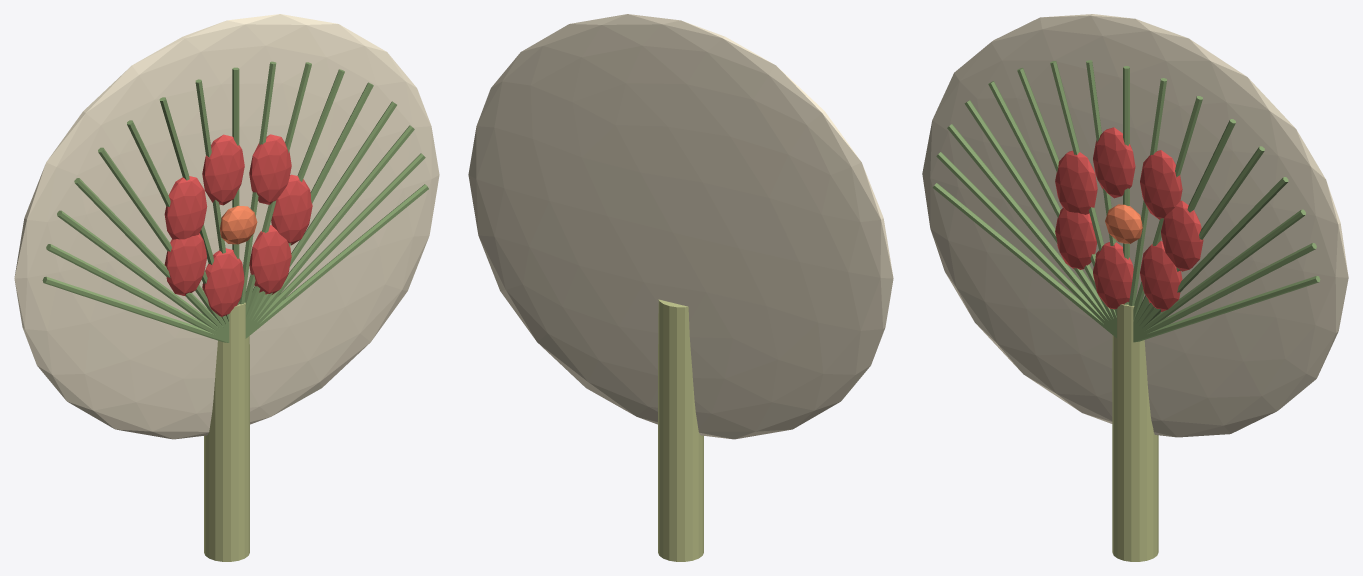
Rendered from wear_uchiwa.glb.
3 renders of one model, left to right at view 1: azimuth 30°, elevation 25°; view 2: azimuth 150°, elevation 25°; view 3: azimuth 330°, elevation 25°, orthographic.
Parts seen in each view (by area): view 1: Uchiwa stiff paper leaf, Bamboo uchiwa handle, Uchiwa print blossom_petal02, Uchiwa print blossom_petal01, Uchiwa print blossom_petal06, Uchiwa print blossom_petal03, Uchiwa print blossom_petal05, Uchiwa print blossom_petal04, Uchiwa print blossom_petal00, Spreading bamboo veins.002, Spreading bamboo veins.001, Spreading bamboo veins.014 (+15 smaller); view 2: Uchiwa stiff paper leaf, Bamboo uchiwa handle; view 3: Uchiwa stiff paper leaf, Bamboo uchiwa handle, Uchiwa print blossom_petal02, Uchiwa print blossom_petal01, Uchiwa print blossom_petal00, Uchiwa print blossom_petal03, Uchiwa print blossom_petal05, Uchiwa print blossom_petal06, Uchiwa print blossom_petal04, Spreading bamboo veins.014, Spreading bamboo veins.015, Spreading bamboo veins.013 (+15 smaller).
Boxes of the visible parts, x1,y1,x2,y2 form: Uchiwa stiff paper leaf: (14,14,439,439); Bamboo uchiwa handle: (204,302,249,561); Uchiwa print blossom_petal02: (202,134,244,205); Uchiwa print blossom_petal01: (249,134,291,204); Uchiwa print blossom_petal06: (249,225,291,294); Uchiwa print blossom_petal03: (164,176,207,239); Uchiwa print blossom_petal05: (202,248,244,316); Uchiwa print blossom_petal04: (164,233,206,295); Uchiwa print blossom_petal00: (271,174,312,245); Spreading bamboo veins.002: (245,125,414,335); Spreading bamboo veins.001: (245,153,425,337); Spreading bamboo veins.014: (57,210,229,339); Uchiwa stiff paper leaf: (468,14,893,439); Bamboo uchiwa handle: (658,299,703,561); Uchiwa stiff paper leaf: (922,14,1348,437); Bamboo uchiwa handle: (1112,304,1158,561); Uchiwa print blossom_petal02: (1093,127,1135,198); Uchiwa print blossom_petal01: (1140,150,1182,219); Uchiwa print blossom_petal00: (1161,200,1203,271); Uchiwa print blossom_petal03: (1055,150,1097,214); Uchiwa print blossom_petal05: (1093,242,1133,309); Uchiwa print blossom_petal06: (1140,241,1182,311); Uchiwa print blossom_petal04: (1055,208,1096,269); Spreading bamboo veins.014: (947,124,1116,335); Spreading bamboo veins.015: (936,152,1116,336); Spreading bamboo veins.013: (964,100,1116,330).
Size of the model in its own units: 1.63 by 1.95 by 0.1891.
